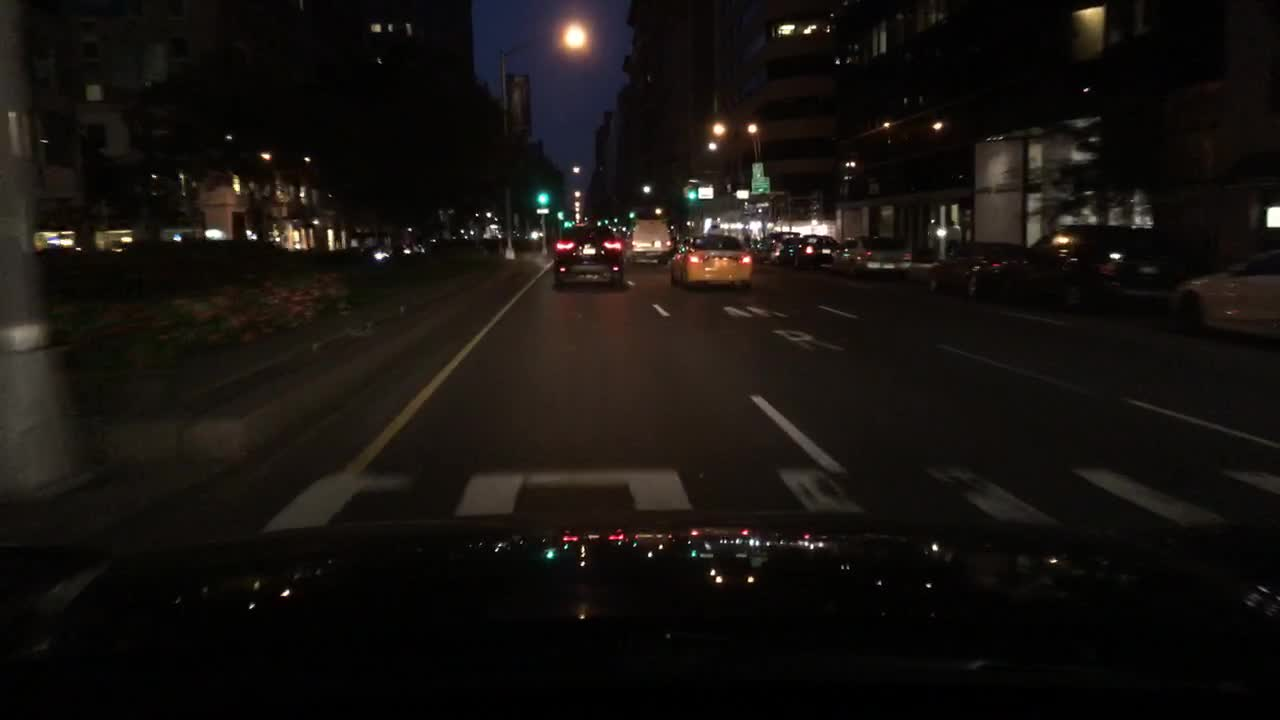car: (1022, 221, 1206, 308), (1164, 251, 1278, 338), (929, 240, 1031, 299), (552, 221, 627, 289), (672, 230, 754, 292), (830, 235, 909, 281), (626, 215, 672, 262), (797, 234, 842, 268), (754, 230, 795, 267), (771, 235, 802, 268), (363, 245, 388, 258), (403, 243, 426, 254)
traffic light: (536, 188, 549, 206), (686, 185, 696, 198)
traffic sign: (750, 176, 771, 192), (1266, 206, 1279, 227), (750, 161, 762, 182), (699, 184, 716, 198), (533, 205, 552, 217), (737, 186, 746, 202), (753, 201, 771, 209)
